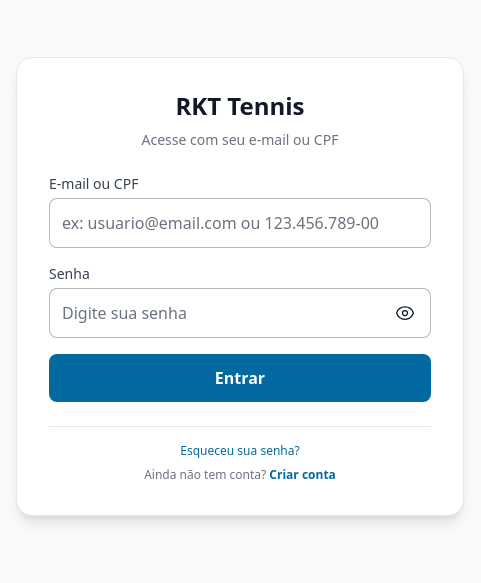
it: LoginPage Characterization › informa erro específico quando o usuário não é encontrado ou senha está errada
Type "inexistente@rkt.com" into the field labelled "E-mail ou CPF".
click(240, 222); type("inexistente@rkt.com")  # box [49,198,431,248]
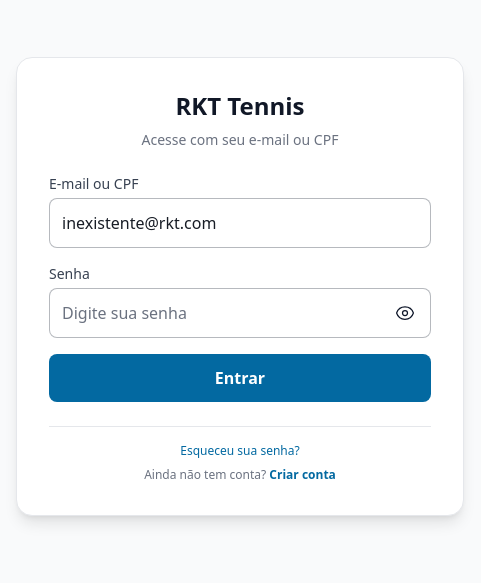
Type "12345678" into the password field labelled "Senha".
click(240, 312); type("12345678")  # box [49,288,431,338]
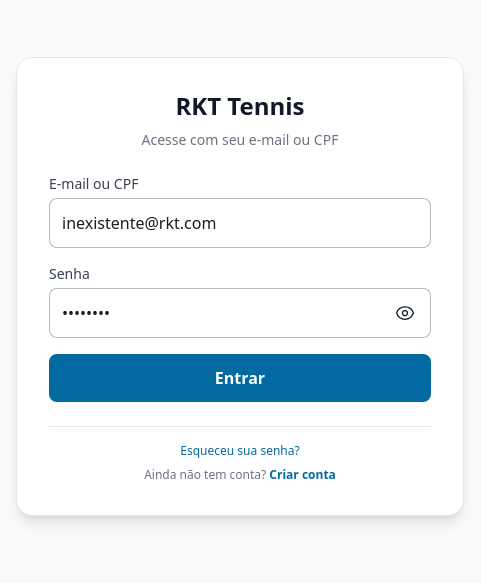
Click the button "Entrar".
click(240, 378)  # box [49,354,431,402]
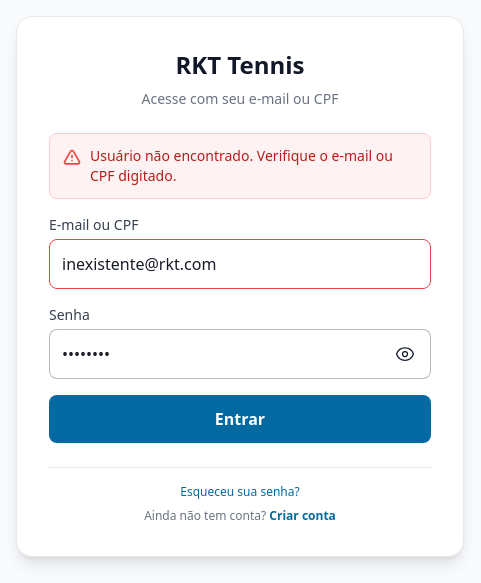
Now the message shows "Usuário não encontrado", box [90,146,393,184]
